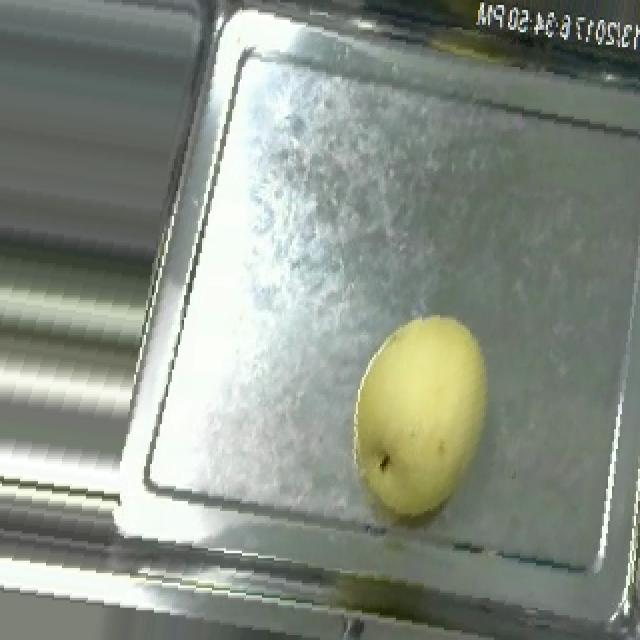Fruit: (324, 300, 512, 531)
